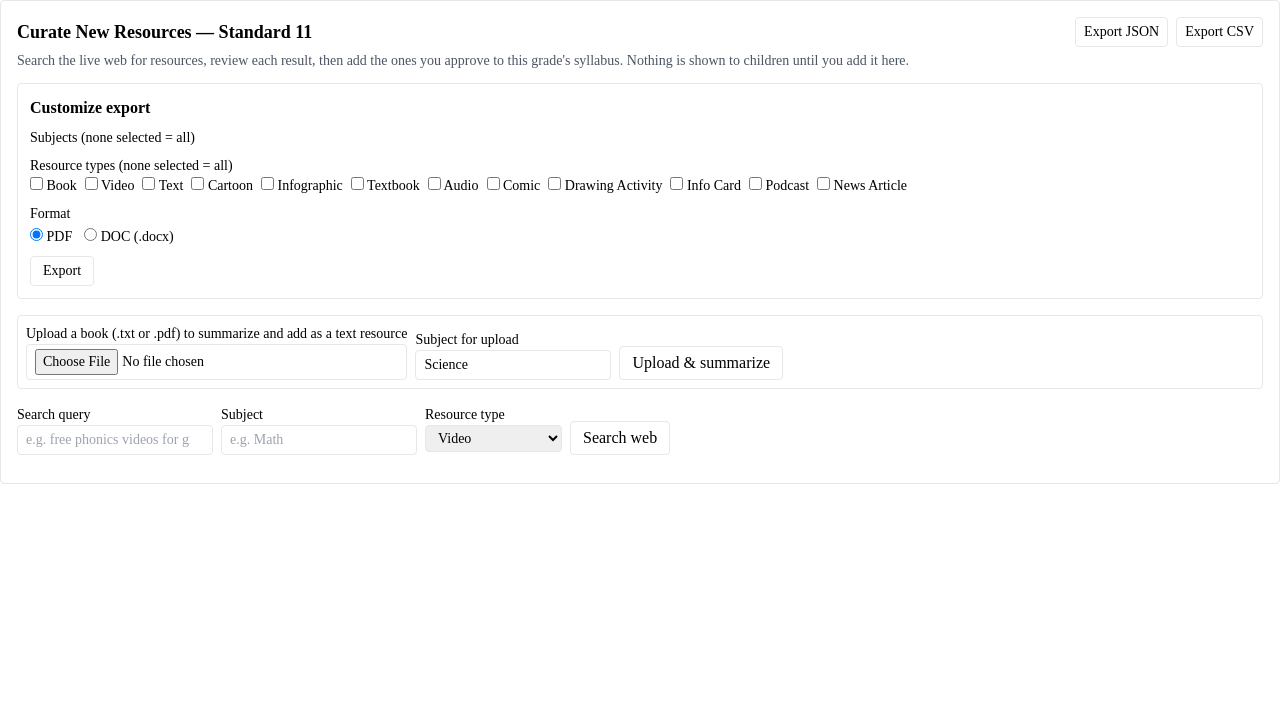
ParentCuration book upload topic linking › shows which lesson topics Ark AI linked the book to
Earlier steps of the test are not shown.
Click the button "Upload & summarize": {"x": 701, "y": 363} [619, 346, 783, 380]
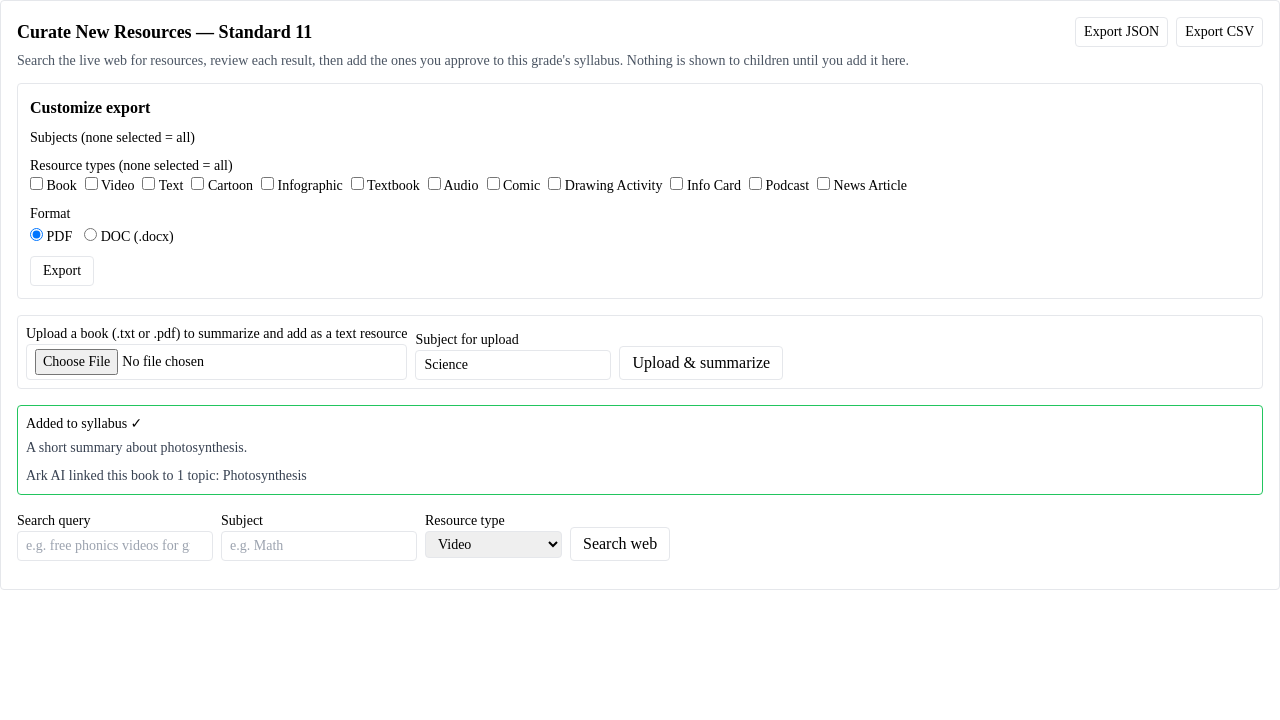
Expected: the text "Added to syllabus ✓" is shown, [26, 416, 142, 431]
Expected: the text "Ark AI linked this book to 1 topic: Photosynthesis" is shown, [26, 468, 307, 483]
